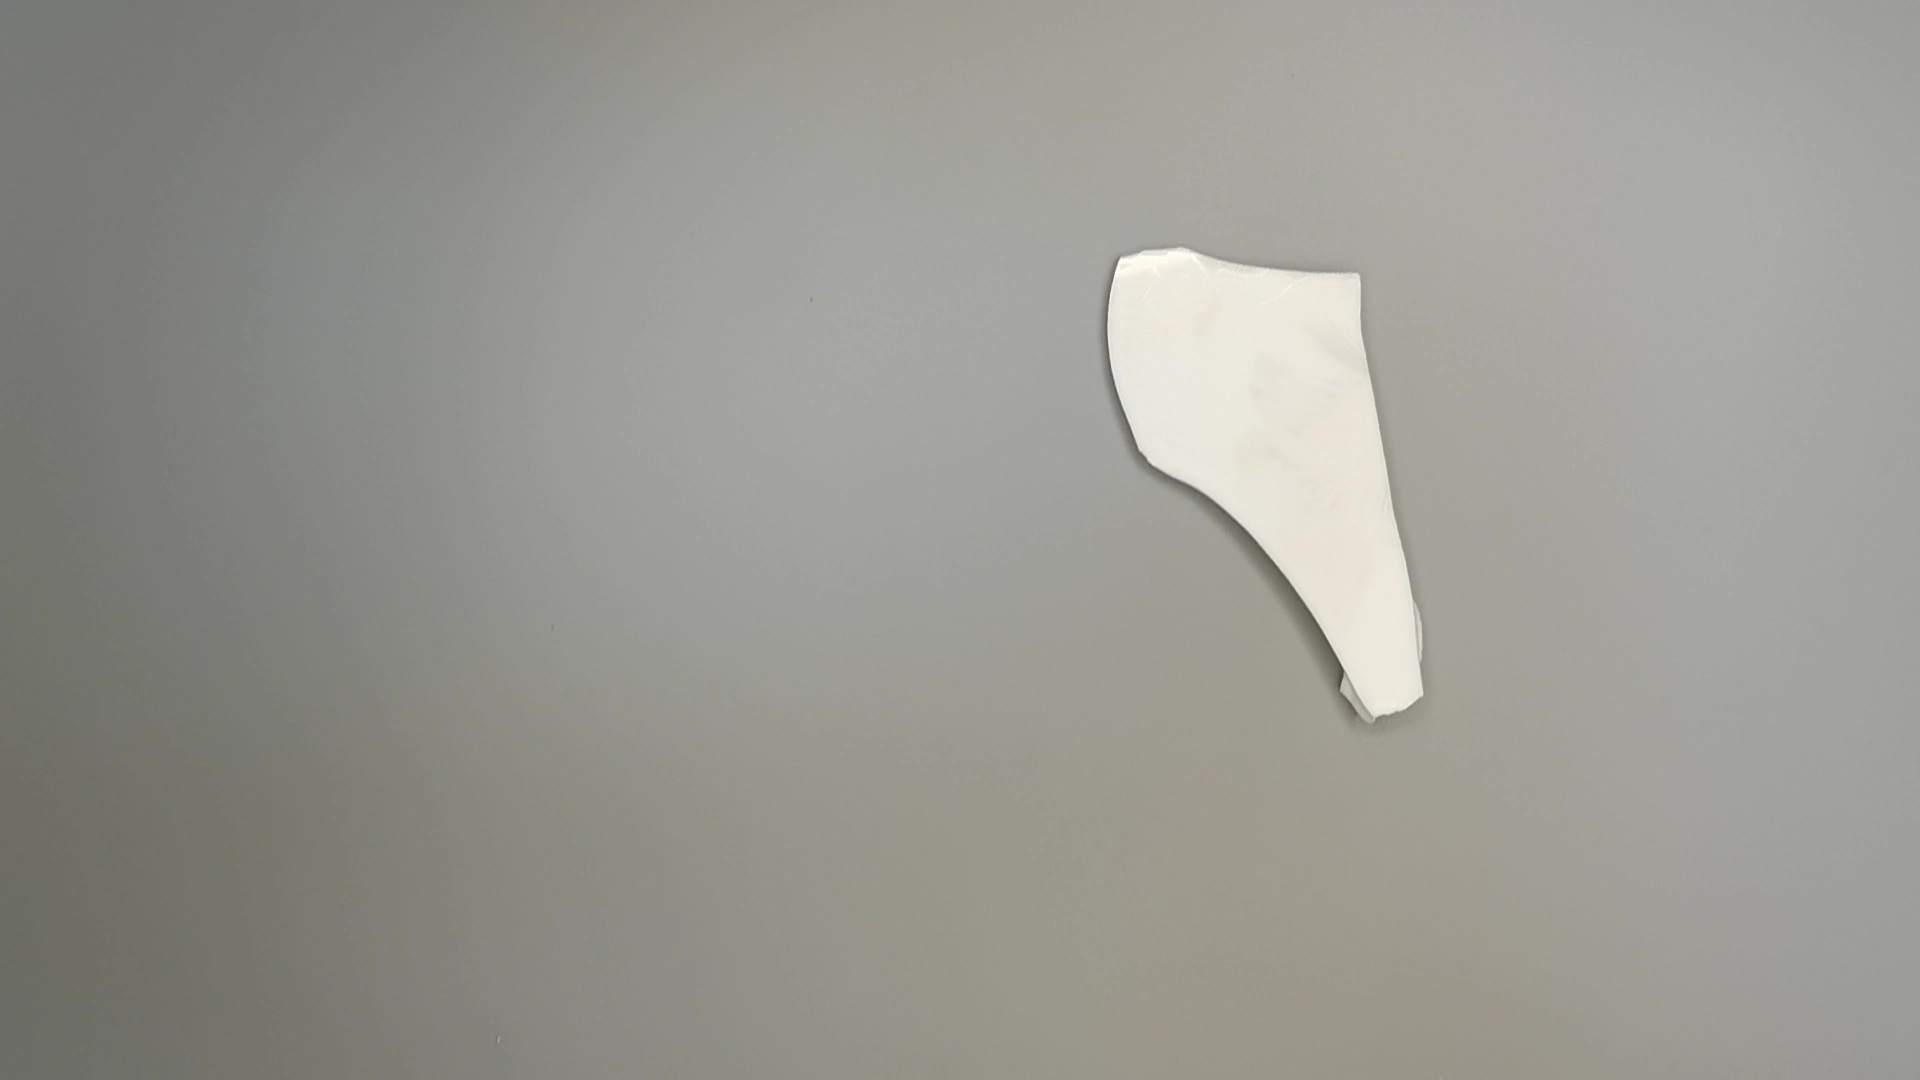ceramic: (1093, 243, 1433, 723)
